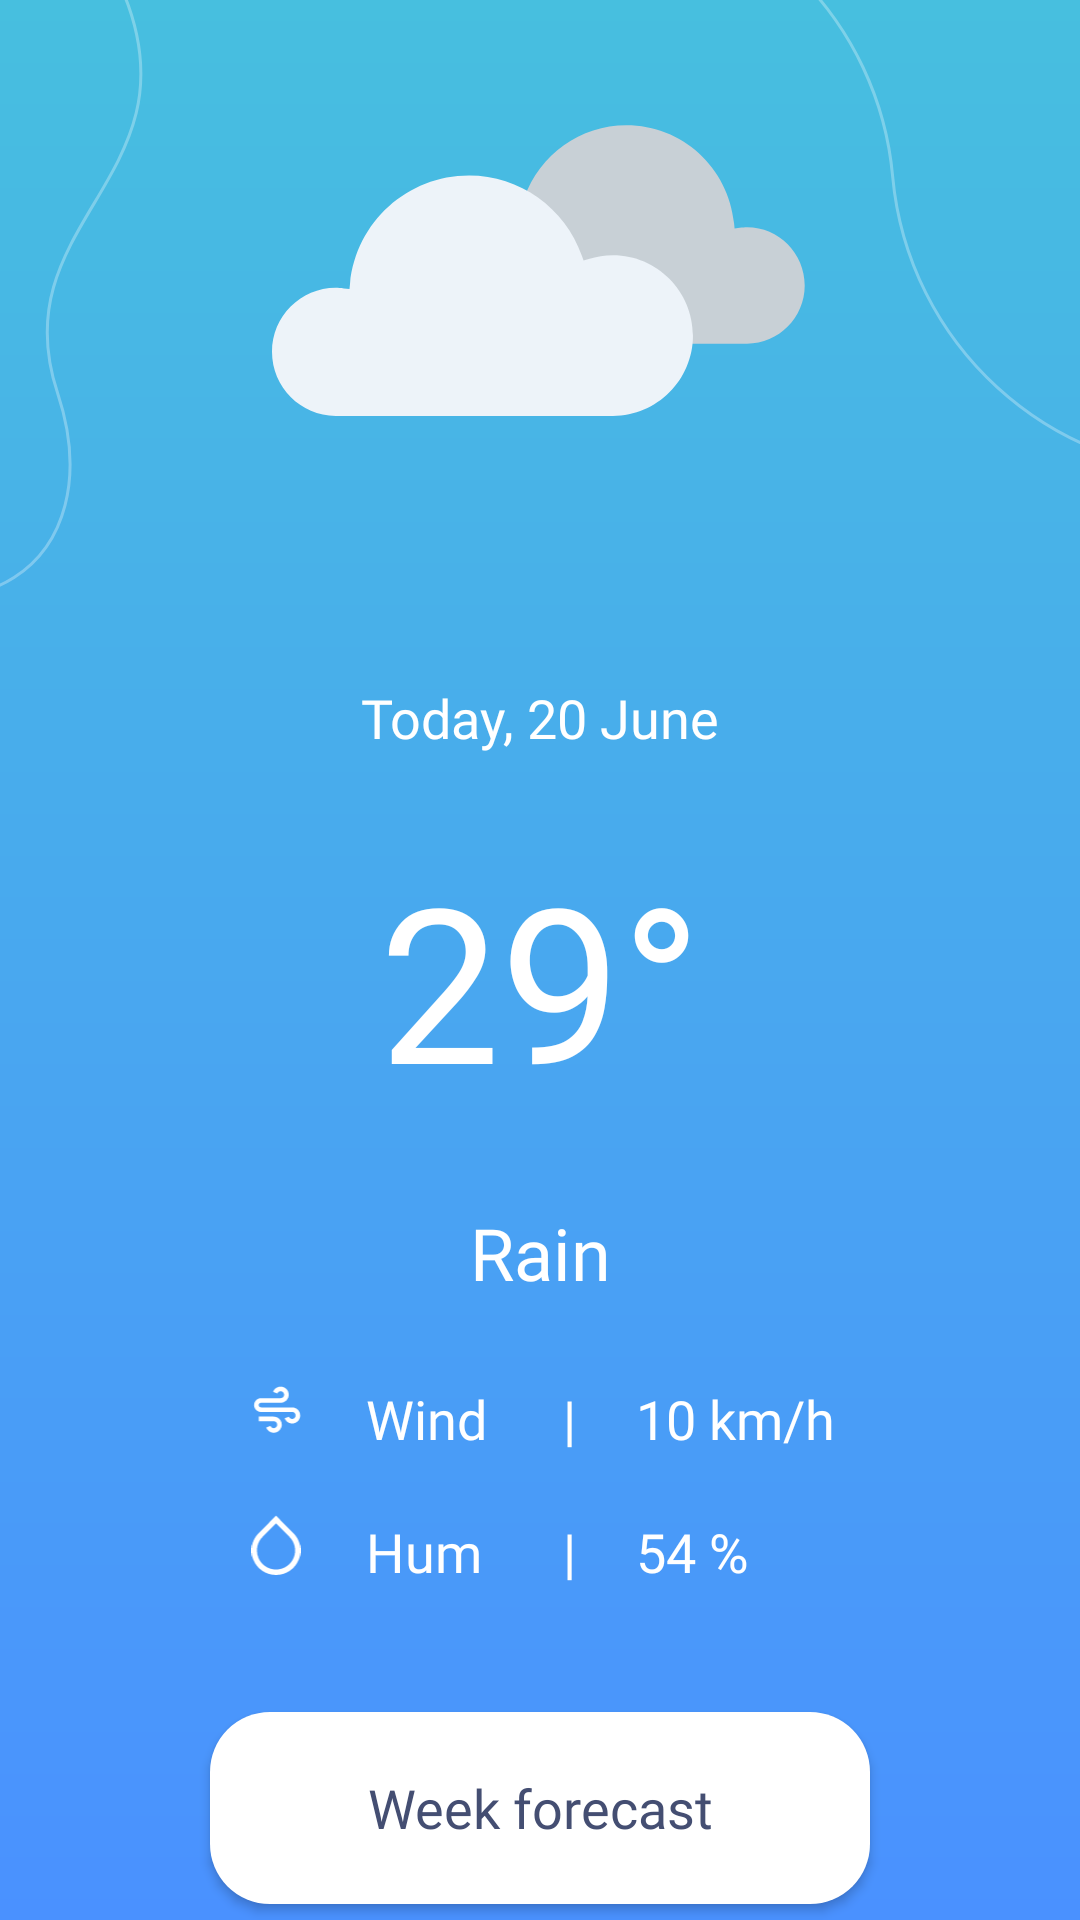

Where icons sit on this 1080 x 1920 app screen, as (x1, y1, x2, y2):
characterictic humidity: (251, 1516, 301, 1575)
